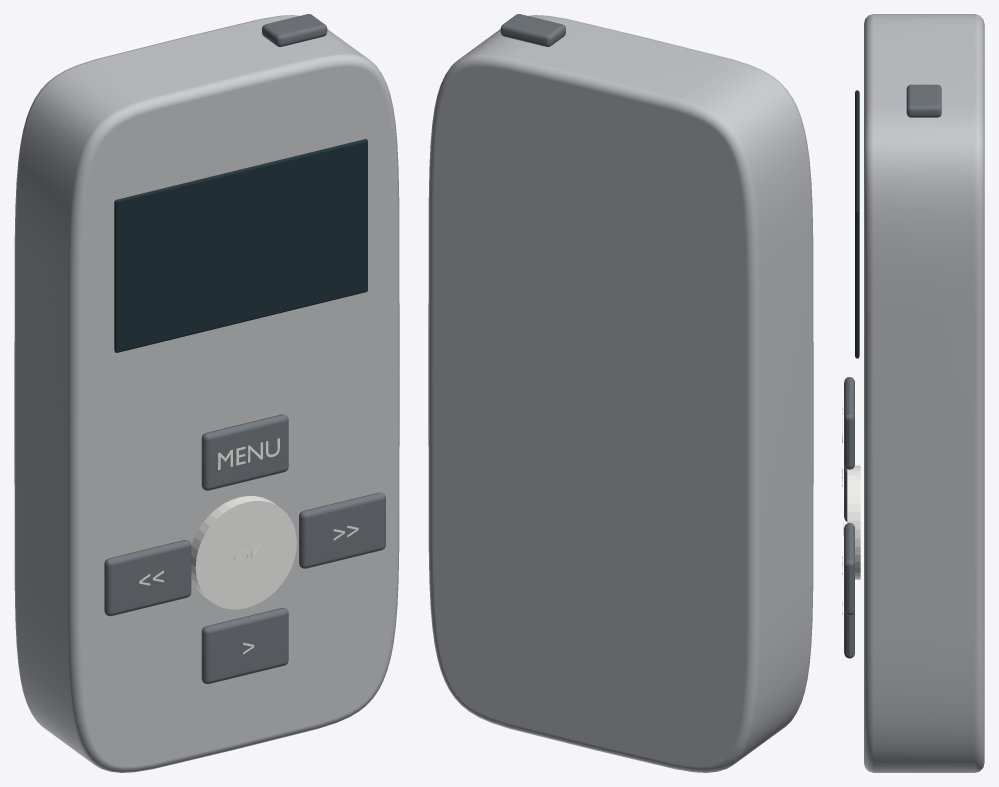
The model's file is mp3-collection.glb.
3 views of the same model, side by side, from view 1: azimuth 30°, elevation 25°; view 2: azimuth 150°, elevation 25°; view 3: azimuth 270°, elevation 25° (orthographic). The views are drawn at different scales.
Visible parts, largest first — view 1: MP3_rounded_aluminium, Display_glass, MP3_centre_select, Key_play, Key_track:prev, Key_track:next, Key_home, Power; view 2: MP3_rounded_aluminium, Power; view 3: MP3_rounded_aluminium, Display_glass, Power, MP3_centre_select, Key_home, Key_track:next, Key_play.
Boxes of the visible parts, x1,y1,x2,y2 form: MP3_rounded_aluminium: (14, 15, 399, 772); Display_glass: (114, 139, 367, 352); MP3_centre_select: (191, 496, 296, 609); Key_play: (201, 608, 288, 683); Key_track:prev: (104, 540, 191, 616); Key_track:next: (299, 492, 385, 568); Key_home: (201, 414, 288, 490); Power: (262, 14, 327, 46); MP3_rounded_aluminium: (428, 15, 813, 772); Power: (500, 14, 565, 46); MP3_rounded_aluminium: (864, 14, 984, 772); Display_glass: (855, 90, 859, 358); Power: (906, 84, 941, 117); MP3_centre_select: (847, 465, 860, 579); Key_home: (844, 377, 854, 469); Key_track:next: (844, 522, 854, 615); Key_play: (844, 610, 854, 658).
Bounding box in the file's own units: 1.7 × 3.36 × 0.648.
